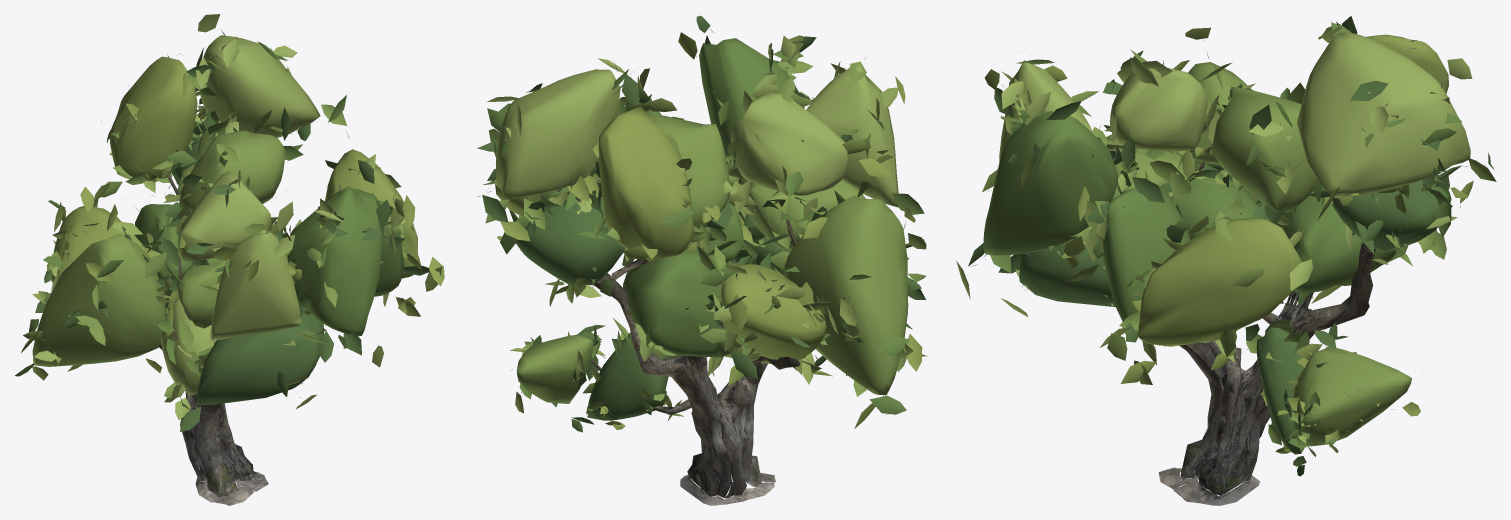
The model's file is island_tree_clustered.glb.
The picture shows the model from 3 angles, left to right: view 1: azimuth 30°, elevation 25°; view 2: azimuth 150°, elevation 25°; view 3: azimuth 270°, elevation 25°; orthographic projection. The views are drawn at different scales.
Visible parts, largest first — view 1: Complete_leaf_canopy_2200, Leaf_mass_06, Leaf_mass_00, Leaf_mass_09, Leaf_mass_02, Leaf_mass_03, Leaf_mass_17, island_tree_01_LOD0.001, Leaf_mass_07, Leaf_mass_11, Leaf_mass_14, Leaf_mass_04 (+4 smaller); view 2: Complete_leaf_canopy_2200, Leaf_mass_06, island_tree_01_LOD0.001, Leaf_mass_02, Leaf_mass_09, Leaf_mass_07, Leaf_mass_10, Leaf_mass_04, Leaf_mass_17, Leaf_mass_08, Leaf_mass_00, Leaf_mass_11 (+5 smaller); view 3: Complete_leaf_canopy_2200, Leaf_mass_02, Leaf_mass_14, island_tree_01_LOD0.001, Leaf_mass_00, Leaf_mass_11, Leaf_mass_16, Leaf_mass_07, Leaf_mass_05, Leaf_mass_10, Leaf_mass_08, Leaf_mass_03 (+6 smaller).
Part boxes in pixels (x1=…): Complete_leaf_canopy_2200: x1=15, y1=14, x2=444, y2=431; Leaf_mass_06: x1=32, y1=234, x2=165, y2=366; Leaf_mass_00: x1=287, y1=186, x2=383, y2=336; Leaf_mass_09: x1=109, y1=56, x2=197, y2=180; Leaf_mass_02: x1=200, y1=35, x2=320, y2=137; Leaf_mass_03: x1=196, y1=300, x2=323, y2=405; Leaf_mass_17: x1=210, y1=229, x2=301, y2=340; island_tree_01_LOD0.001: x1=159, y1=174, x2=268, y2=505; Leaf_mass_07: x1=177, y1=171, x2=272, y2=261; Leaf_mass_11: x1=179, y1=130, x2=285, y2=209; Leaf_mass_14: x1=325, y1=149, x2=421, y2=278; Leaf_mass_04: x1=51, y1=206, x2=150, y2=282; Complete_leaf_canopy_2200: x1=477, y1=15, x2=927, y2=432; Leaf_mass_06: x1=784, y1=196, x2=908, y2=395; island_tree_01_LOD0.001: x1=575, y1=196, x2=800, y2=505; Leaf_mass_02: x1=496, y1=69, x2=620, y2=198; Leaf_mass_09: x1=598, y1=106, x2=694, y2=261; Leaf_mass_07: x1=731, y1=93, x2=848, y2=195; Leaf_mass_10: x1=623, y1=250, x2=734, y2=357; Leaf_mass_04: x1=721, y1=264, x2=826, y2=360; Leaf_mass_17: x1=806, y1=63, x2=898, y2=207; Leaf_mass_08: x1=516, y1=197, x2=625, y2=285; Leaf_mass_00: x1=699, y1=38, x2=804, y2=156; Leaf_mass_11: x1=650, y1=115, x2=730, y2=228; Complete_leaf_canopy_2200: x1=956, y1=16, x2=1496, y2=476; Leaf_mass_02: x1=1297, y1=31, x2=1470, y2=196; Leaf_mass_14: x1=1137, y1=217, x2=1301, y2=346; island_tree_01_LOD0.001: x1=1158, y1=147, x2=1375, y2=505; Leaf_mass_00: x1=983, y1=111, x2=1117, y2=255; Leaf_mass_11: x1=1211, y1=86, x2=1319, y2=212; Leaf_mass_16: x1=1293, y1=346, x2=1411, y2=446; Leaf_mass_07: x1=1110, y1=68, x2=1207, y2=150; Leaf_mass_05: x1=1102, y1=188, x2=1190, y2=321; Leaf_mass_10: x1=1277, y1=191, x2=1399, y2=293; Leaf_mass_08: x1=1332, y1=174, x2=1451, y2=252; Leaf_mass_03: x1=1019, y1=244, x2=1115, y2=306.
Size of the model in its own units: 4.73 by 4.86 by 4.8.
21 materials, 2 textured.
